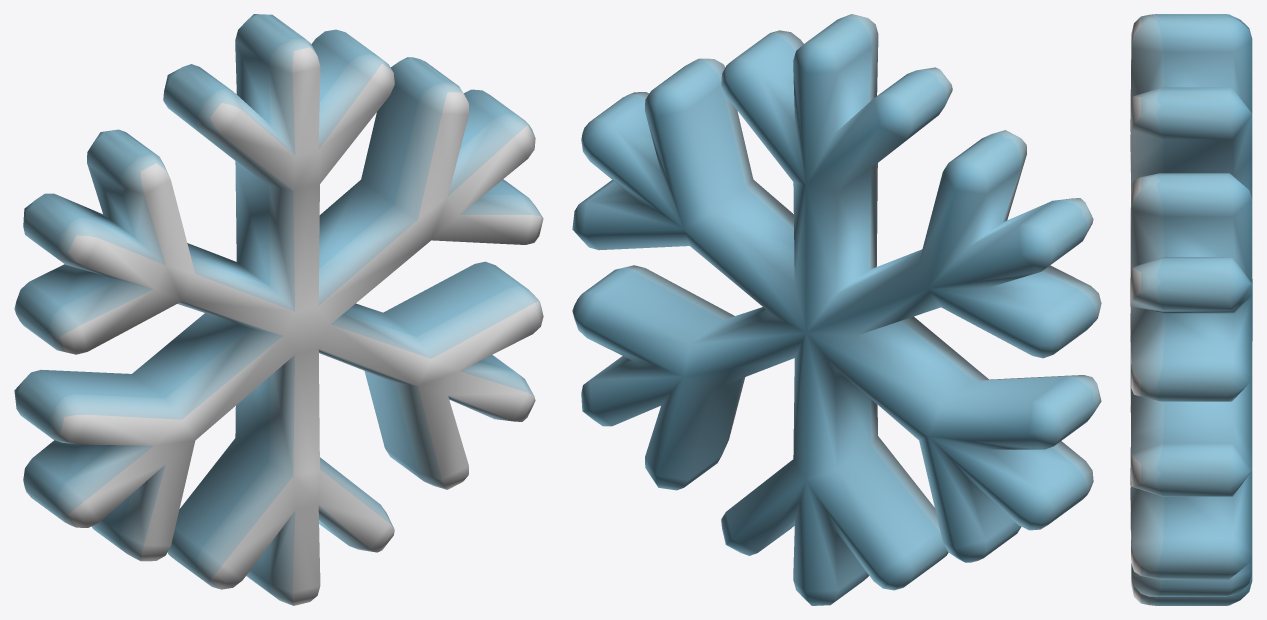
File: Snowflake.fbx
3 views of the same model, side by side, from view 1: azimuth 30°, elevation 25°; view 2: azimuth 150°, elevation 25°; view 3: azimuth 270°, elevation 25° (orthographic). The views are drawn at different scales.
Visible parts, largest first — view 1: Snowflake; view 2: Snowflake; view 3: Snowflake.
Boxes of the visible parts, bbox=[...] form: Snowflake: bbox=[14, 14, 543, 605]; Snowflake: bbox=[572, 14, 1101, 605]; Snowflake: bbox=[1130, 14, 1252, 605].
Size of the model in its own units: 2.04 by 0.4264 by 2.25.
